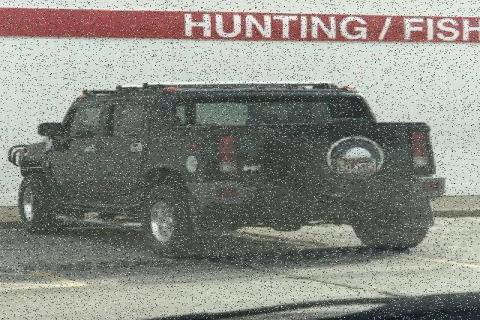LicensePlate: (334, 156, 375, 173)
